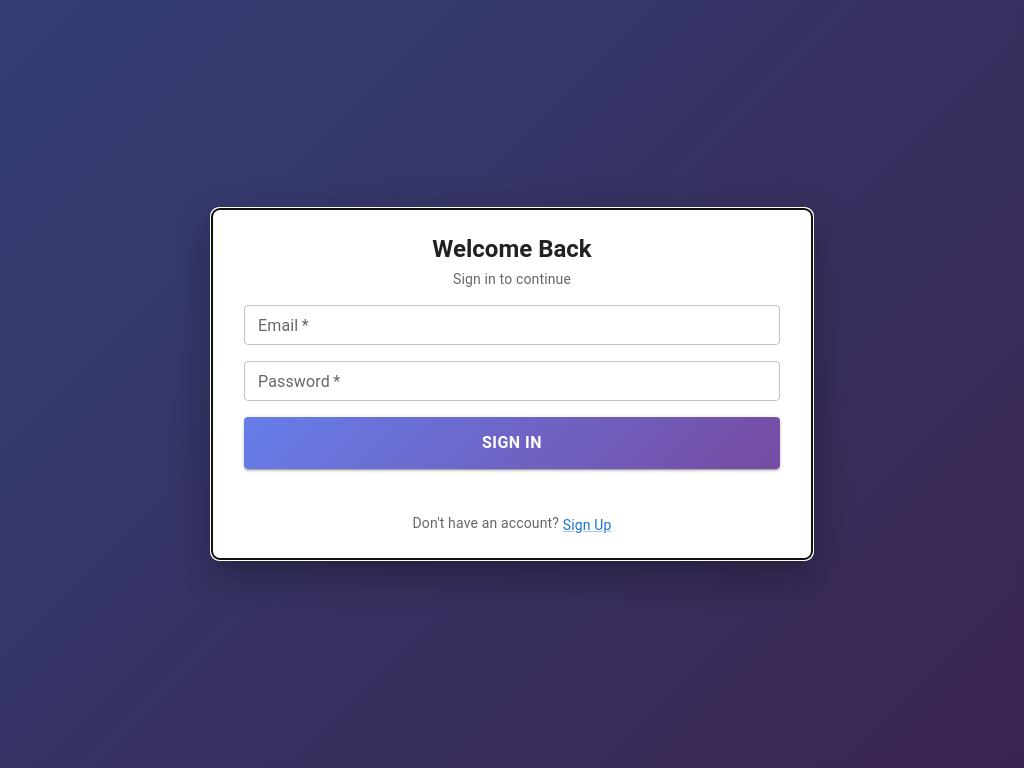
AuthModal › Login Functionality › should handle login error with timing
The width and height of the screenshot is (1024, 768).
In the field labelled "Email *": (512,325) left=244, top=305, right=780, bottom=345, type "test@example.com"
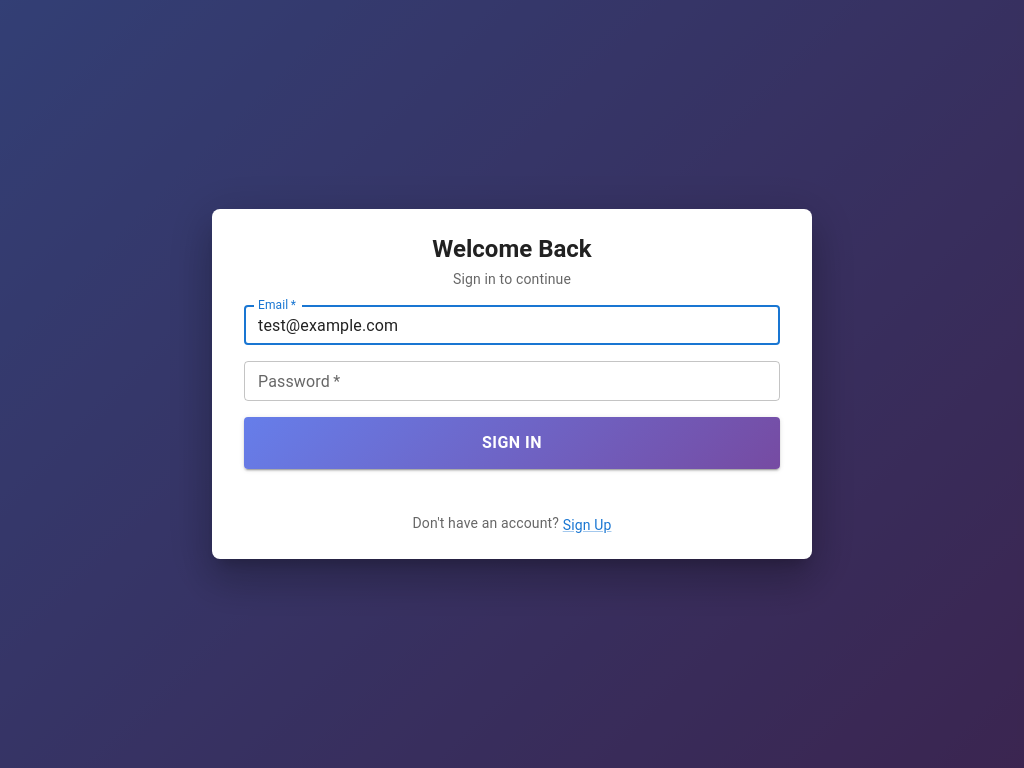
In the password field labelled "Password *": (512,381) left=244, top=361, right=780, bottom=401, type "wrongpassword"
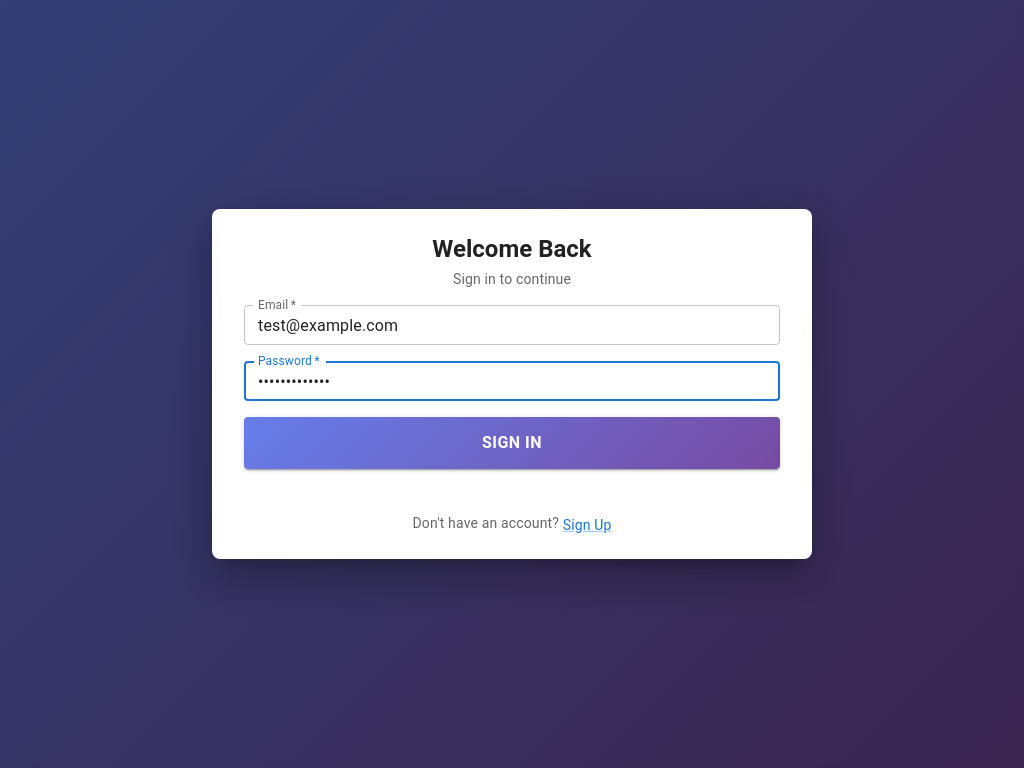
Click the button "Sign In": (512,443) left=244, top=417, right=780, bottom=469
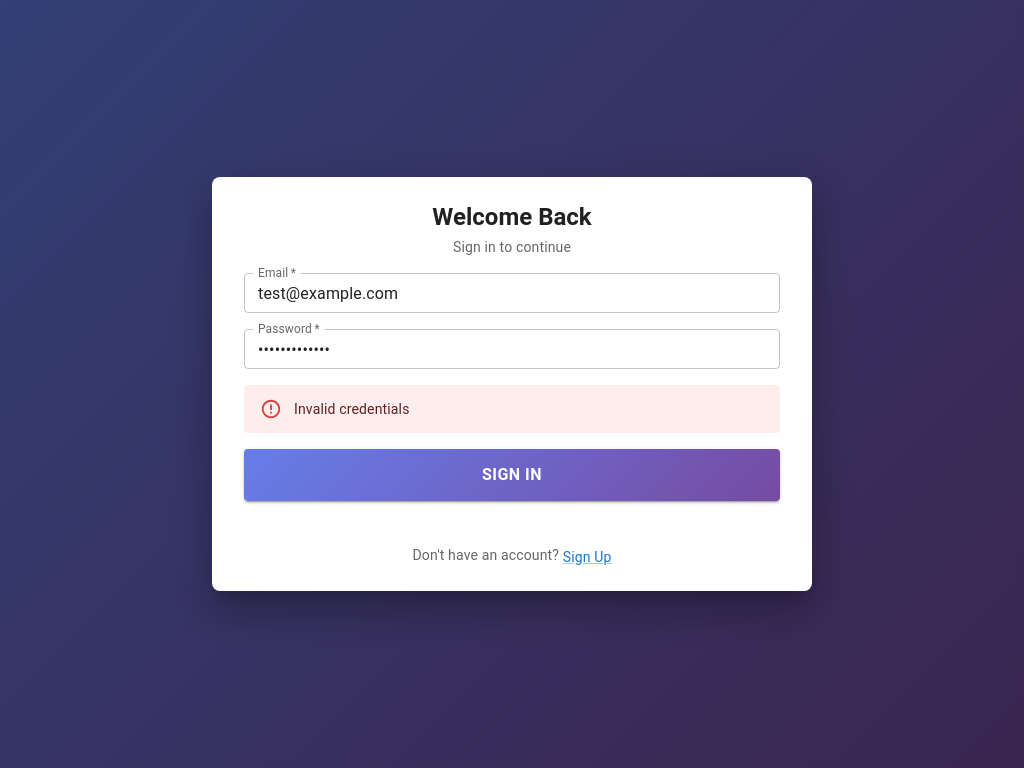
Result: the text "Invalid credentials" is shown at left=294, top=401, right=410, bottom=417
